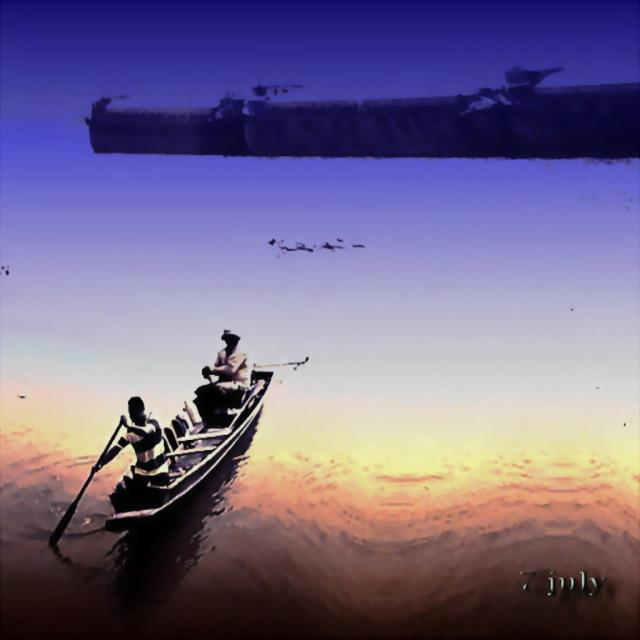Boat: (72, 318, 284, 548)
